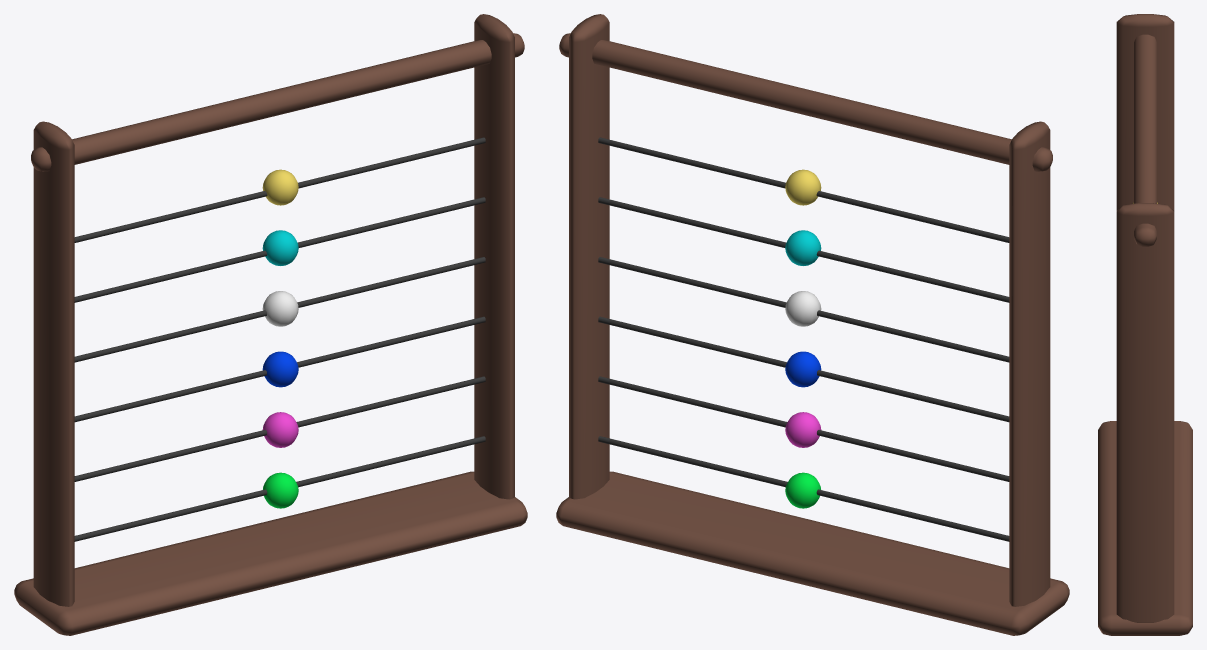
Rendered from Abaco.fbx.
3 renders of one model, left to right at view 1: azimuth 30°, elevation 25°; view 2: azimuth 150°, elevation 25°; view 3: azimuth 270°, elevation 25°, orthographic. The views are drawn at different scales.
Parts seen in each view (by area): view 1: pCube11, pCube12, pSphere1, pSphere2, pSphere4, pSphere3, pSphere6, pSphere5; view 2: pCube11, pCube12, pSphere1, pSphere2, pSphere4, pSphere3, pSphere6, pSphere5; view 3: pCube11.
Boxes of the visible parts, x1=… form: pCube11: x1=14, y1=14, x2=527, y2=635; pCube12: x1=74, y1=137, x2=485, y2=541; pSphere1: x1=262, y1=169, x2=298, y2=205; pSphere2: x1=262, y1=230, x2=298, y2=265; pSphere4: x1=262, y1=351, x2=298, y2=387; pSphere3: x1=262, y1=291, x2=298, y2=326; pSphere6: x1=263, y1=472, x2=298, y2=508; pSphere5: x1=262, y1=412, x2=298, y2=447; pCube11: x1=556, y1=14, x2=1069, y2=635; pCube12: x1=598, y1=137, x2=1009, y2=541; pSphere1: x1=785, y1=169, x2=821, y2=205; pSphere2: x1=785, y1=230, x2=821, y2=265; pSphere4: x1=785, y1=351, x2=821, y2=387; pSphere3: x1=785, y1=291, x2=821, y2=326; pSphere6: x1=785, y1=472, x2=820, y2=508; pSphere5: x1=785, y1=412, x2=821, y2=447; pCube11: x1=1098, y1=14, x2=1192, y2=635.
Size of the model in its own units: 9.85 by 9.43 by 1.88.
